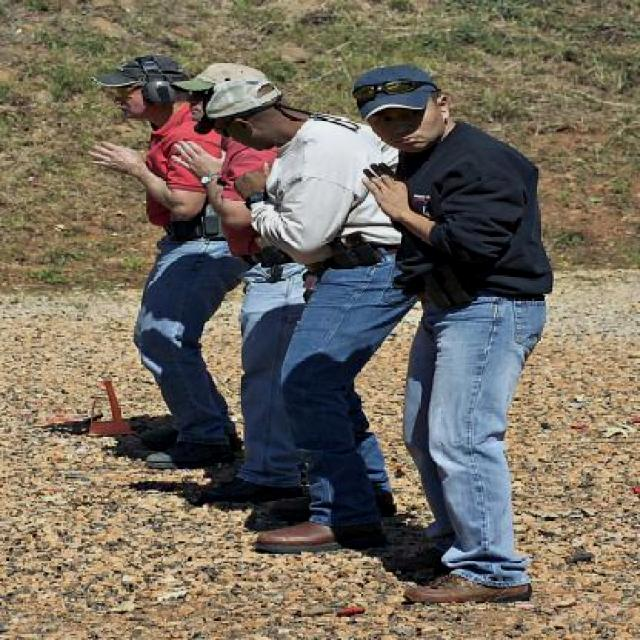face_nomask: (378, 110, 432, 148)
glasses: (360, 58, 552, 616), (194, 64, 403, 542), (92, 53, 236, 469), (348, 76, 442, 93)
hand_noglove: (355, 157, 413, 220), (85, 136, 153, 178), (171, 136, 231, 182)
head_nohelmet: (195, 73, 277, 129), (358, 65, 440, 121), (90, 50, 187, 96)
shoes: (402, 561, 538, 614), (254, 511, 389, 564), (199, 468, 301, 506), (142, 431, 236, 469)
